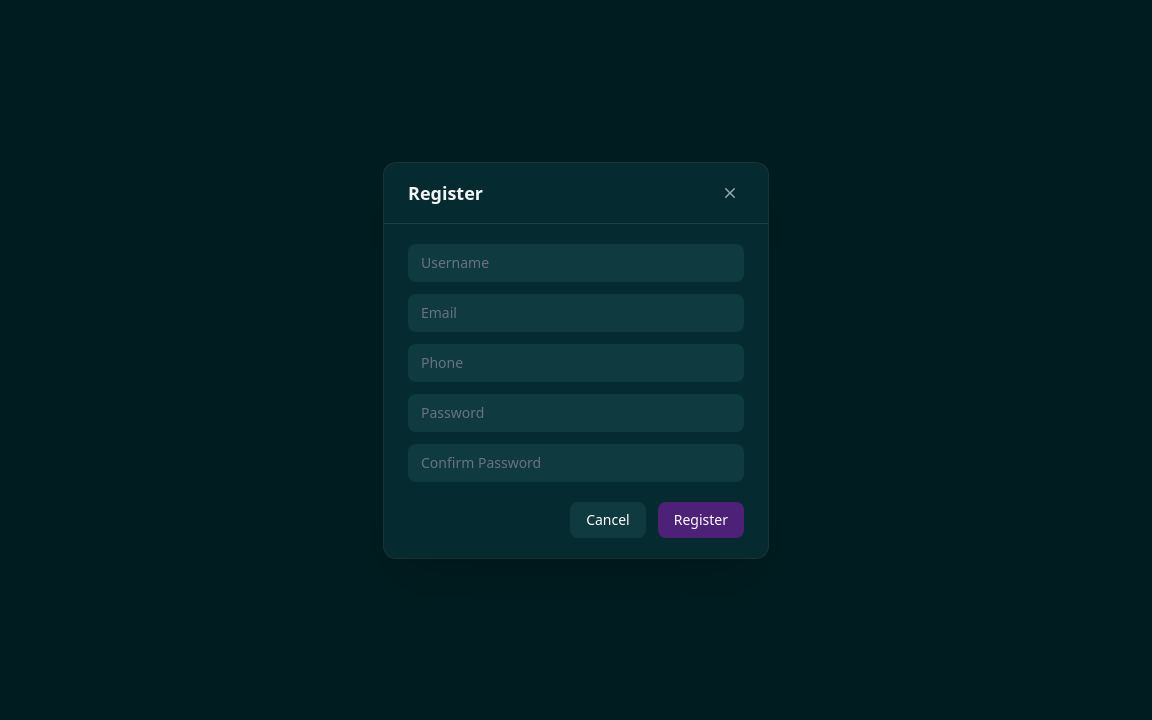
Test: RegisterDialog › shows success message after registration
Type "newuser" into the field with placeholder "Username" at (576, 262), box [408, 244, 744, 282]
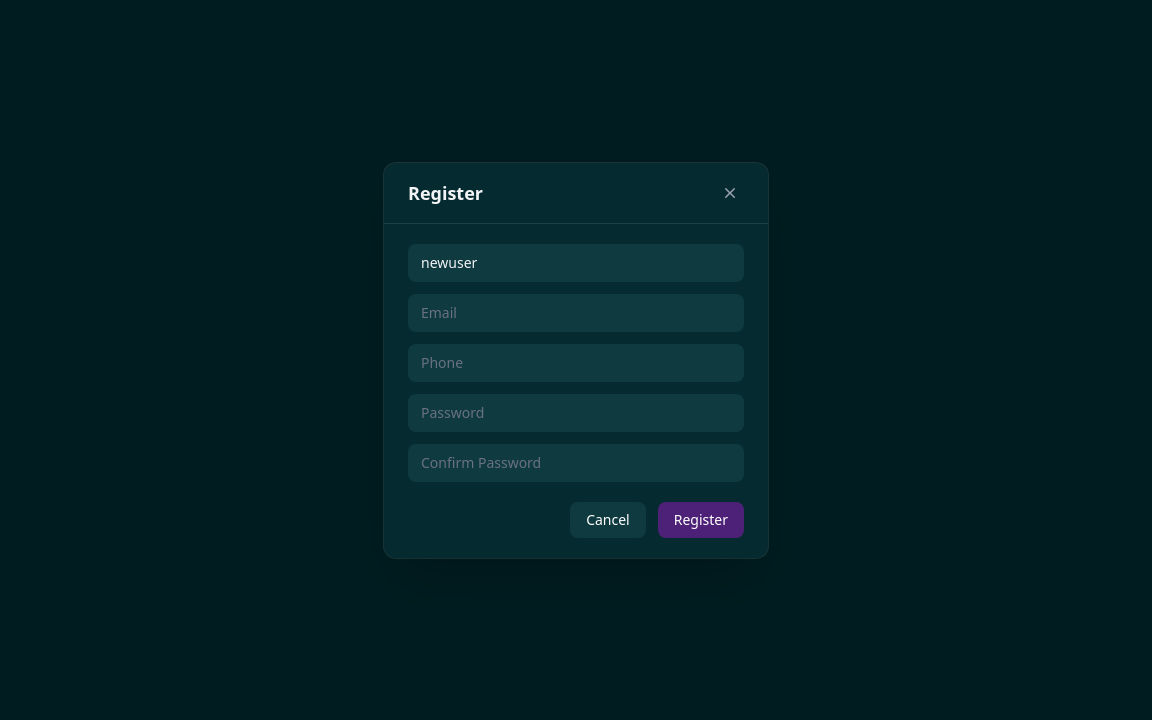
Type "pass" into the password field with placeholder "Password" at (576, 412), box [408, 394, 744, 432]
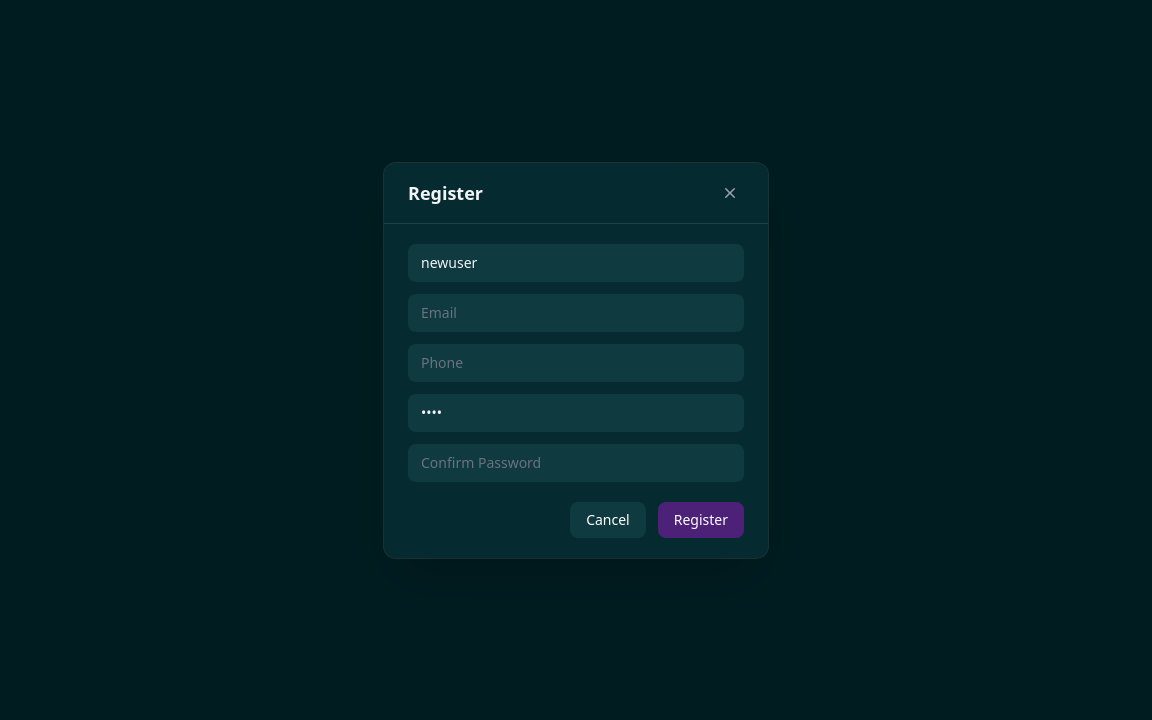
Type "pass" into the password field with placeholder "Confirm Password" at (576, 462), box [408, 444, 744, 482]
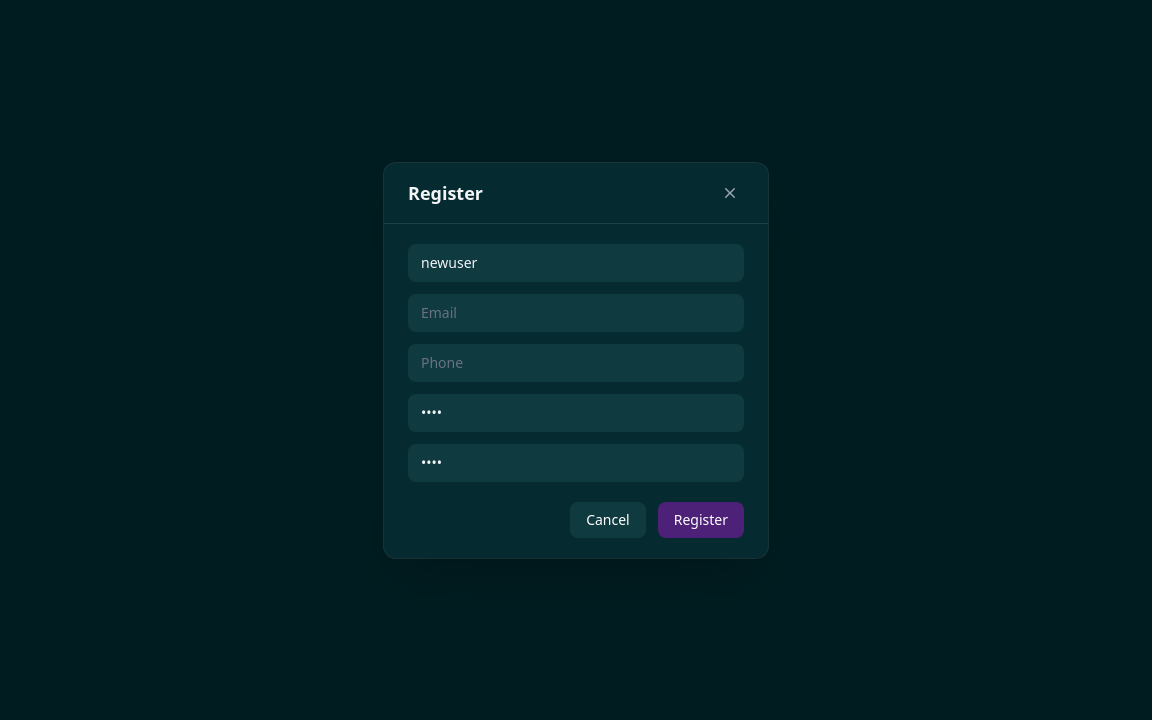
Click the button "Register" at (701, 520), box [658, 502, 744, 538]
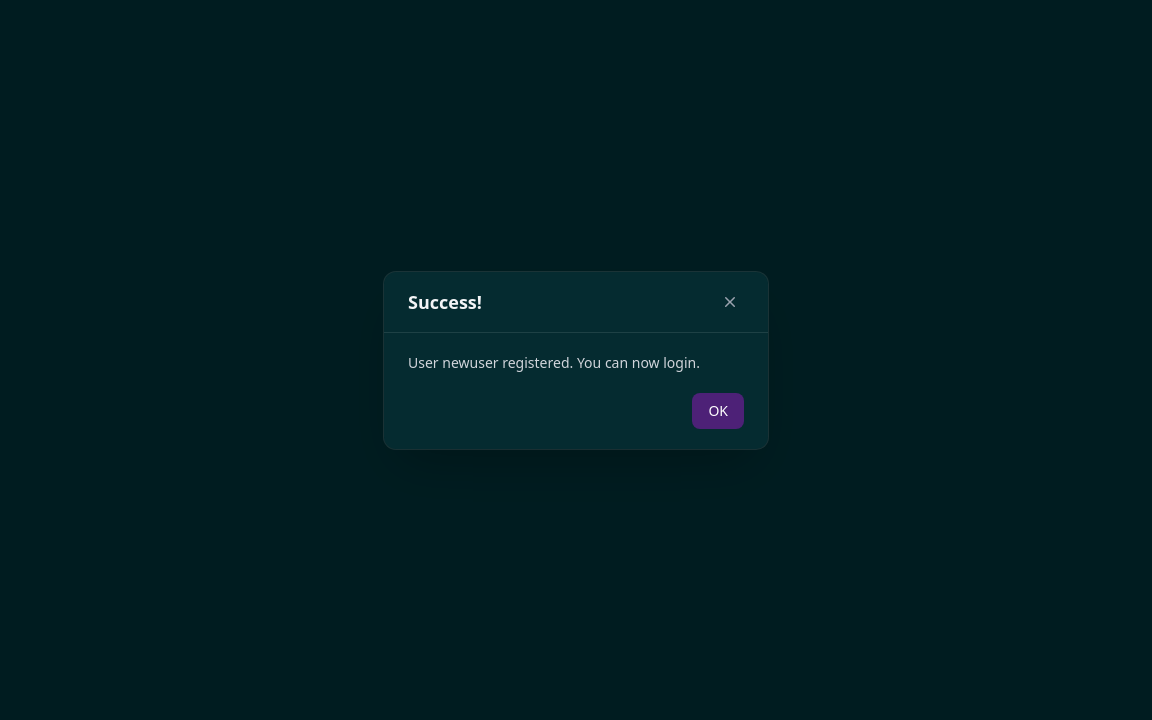
Check: the heading "Success!" is shown, box [408, 288, 482, 316]
